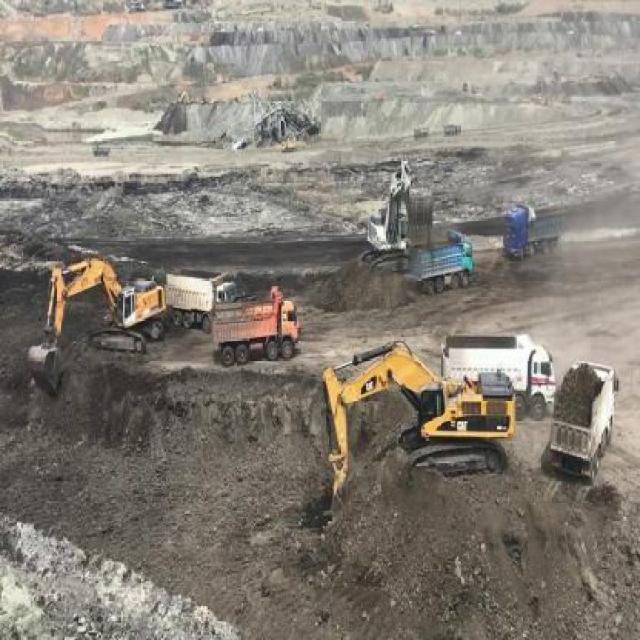dump_truck: (548, 362, 620, 480), (445, 339, 552, 404), (214, 304, 306, 361), (405, 224, 472, 291), (168, 268, 232, 324), (504, 205, 567, 261)
excavator: (321, 334, 516, 528), (25, 246, 168, 392), (357, 154, 432, 278)
